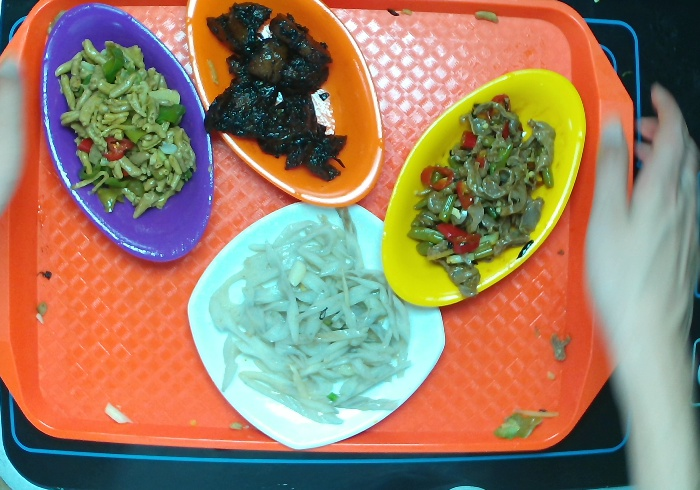RJxy-Fen_Hong_Tuo_Yuan: (40, 1, 216, 264)
RJxy-Huang_Se_Tuo_Yuan: (380, 66, 588, 308)
RJxy-Ju_Huang_Tuo_Yuan: (184, 1, 386, 208)
RJxy-Si_Fang_Die: (185, 199, 447, 451)
